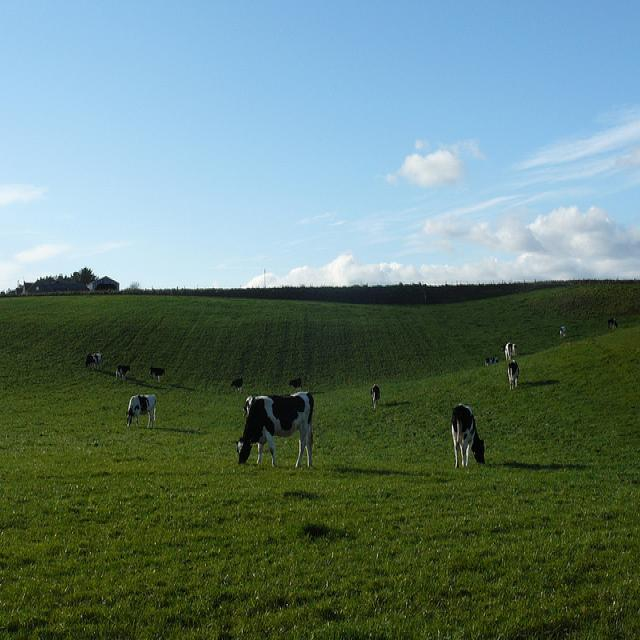cow: (240, 326, 567, 414), (234, 388, 313, 467), (448, 400, 485, 467), (124, 393, 155, 428), (506, 357, 518, 388), (148, 365, 164, 380), (114, 363, 130, 377), (503, 340, 516, 357), (370, 381, 378, 408), (287, 376, 301, 391), (84, 352, 97, 368), (230, 376, 244, 387), (606, 316, 617, 328), (483, 355, 499, 361)
